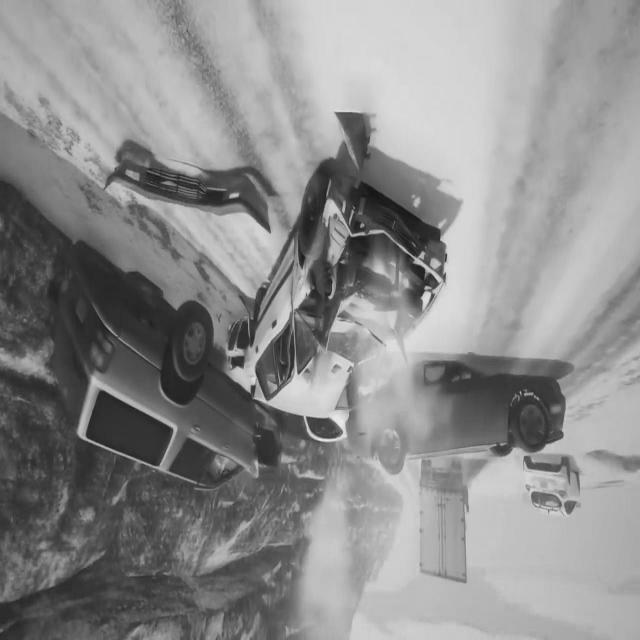severe: (45, 237, 361, 495), (234, 157, 458, 430), (340, 332, 572, 482)
